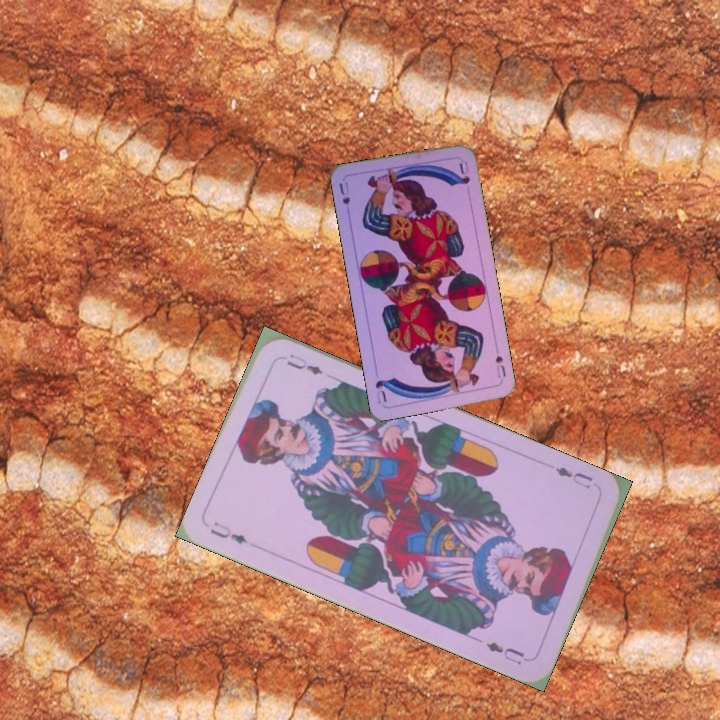EU: (551, 462, 596, 492), (206, 517, 250, 547)
SU: (335, 178, 353, 219), (491, 352, 508, 380)
